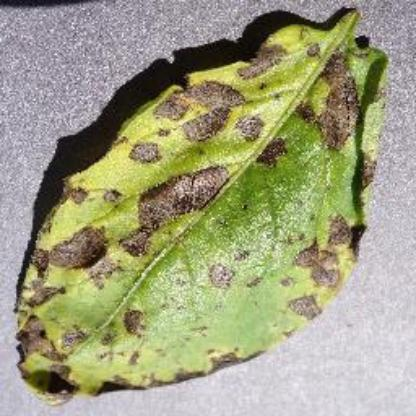Early-Blight: (12, 6, 416, 412)
